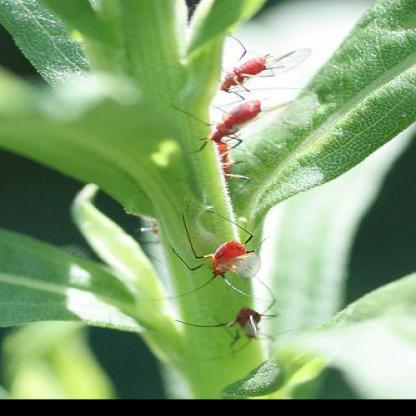aphid: (171, 196, 268, 295), (178, 88, 278, 163), (203, 25, 307, 96), (197, 290, 278, 354)
